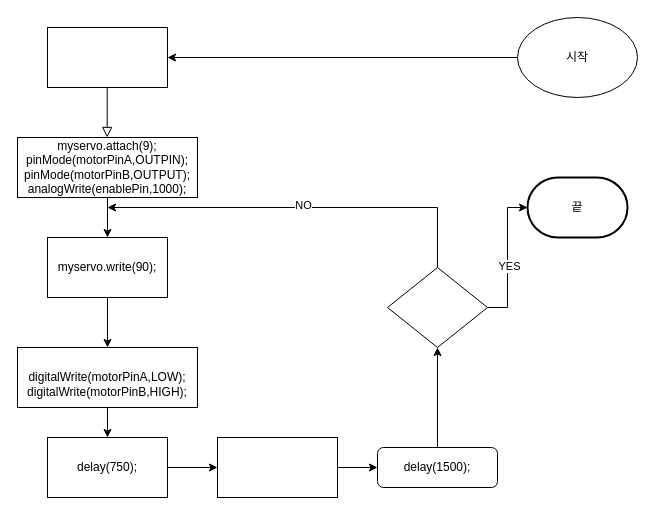
Some shapes in this 655 by 515 pixel diagram are drawn without their labels. The shapes that lost their labels are listed below. From the top down, each one's centre as x and y in pixels, then its label:
(x=107, y=57): int motorPinA=2; int motorPinB=3; servo myservo;
(x=437, y=307): STOP?
(x=277, y=467): myservo.write(50);
